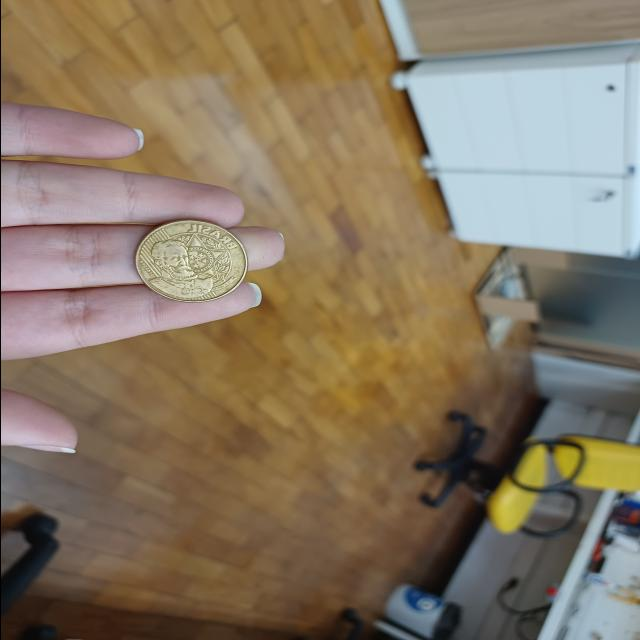25 cents: (128, 213, 248, 302)
